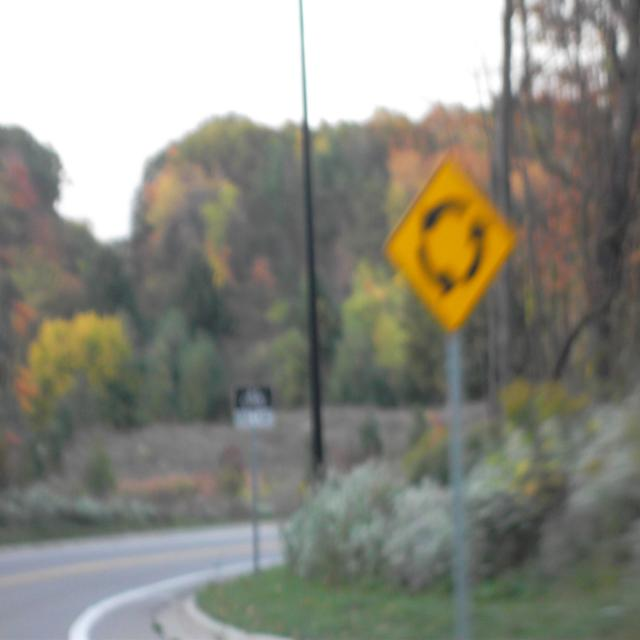warning: (375, 141, 529, 341)
